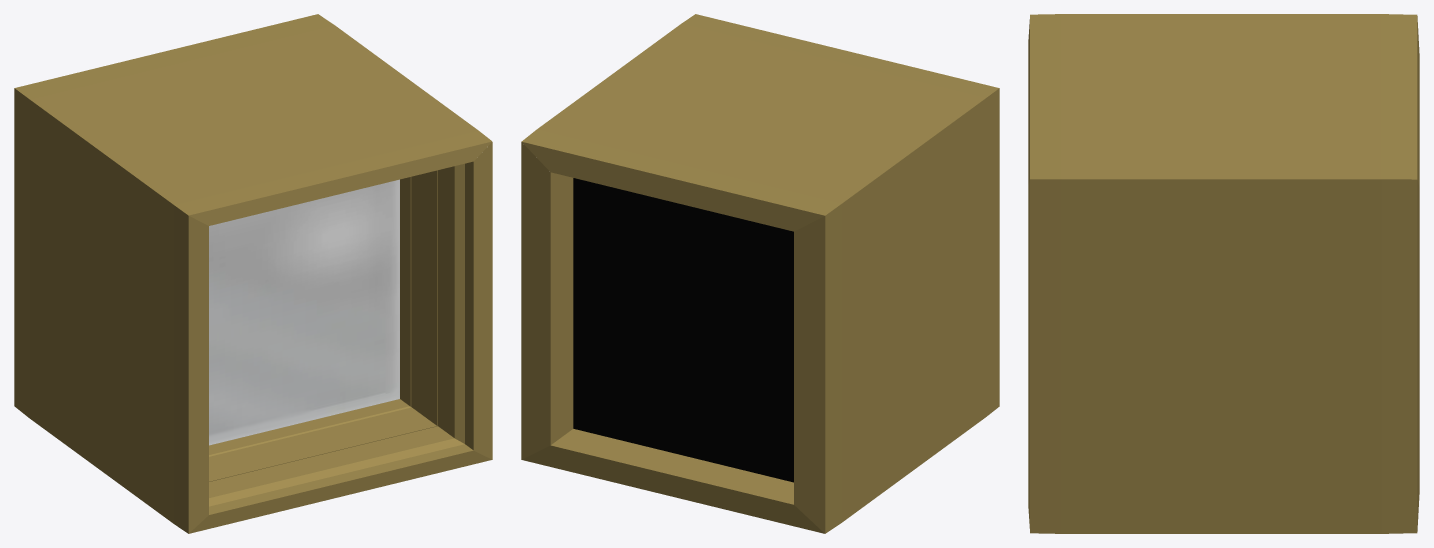
The model's file is sh-contrib-rectangular-mirror.glb.
3 renders of one model, left to right at view 1: azimuth 30°, elevation 25°; view 2: azimuth 150°, elevation 25°; view 3: azimuth 270°, elevation 25°, orthographic. The views are drawn at different scales.
Parts seen in each view (by area): view 1: Cadre, sweethome3d_window_mirror; view 2: Cadre, Fond; view 3: Cadre.
Boxes of the visible parts, bbox=[...] form: Cadre: bbox=[14, 14, 492, 533]; sweethome3d_window_mirror: bbox=[209, 179, 399, 445]; Cadre: bbox=[521, 14, 999, 533]; Fond: bbox=[573, 178, 793, 482]; Cadre: bbox=[1028, 14, 1419, 533].
Bounding box in the file's own units: 1 × 1 × 1.
Materials: 3 (1 with a texture image).
